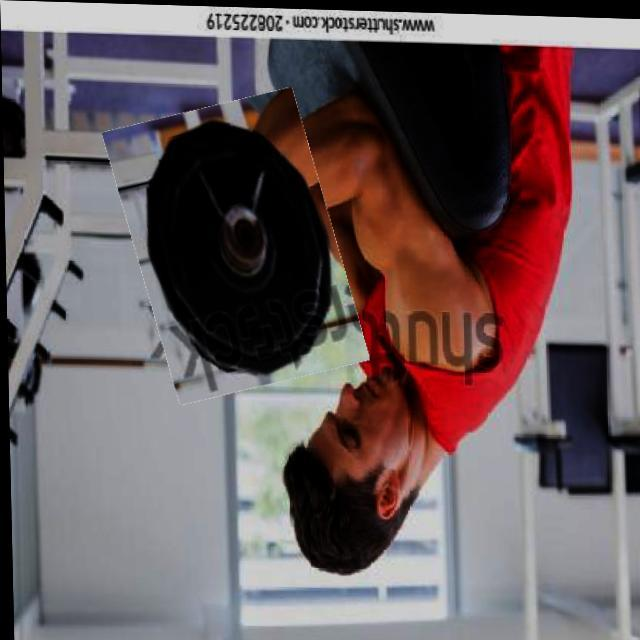barbell: (117, 92, 353, 398)
